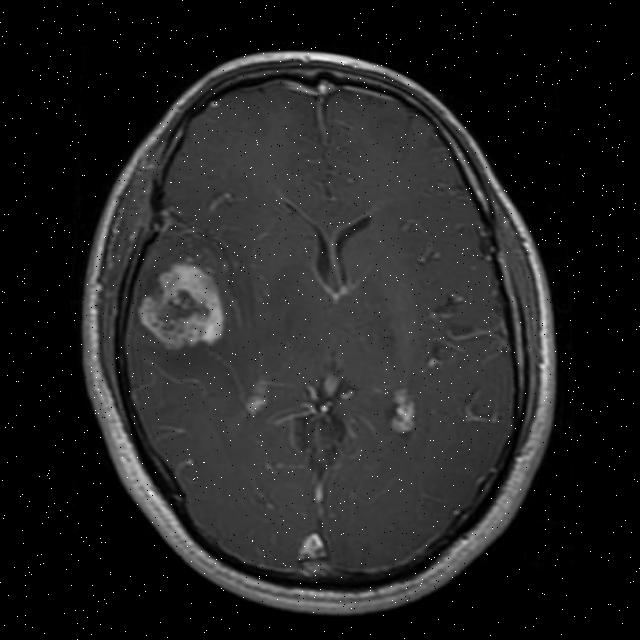Glioma: (130, 257, 232, 354)
